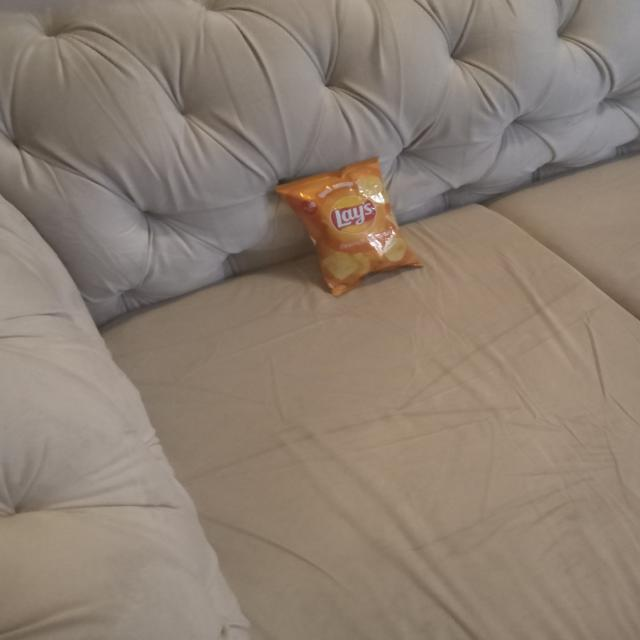Plastic: (279, 158, 423, 294)
